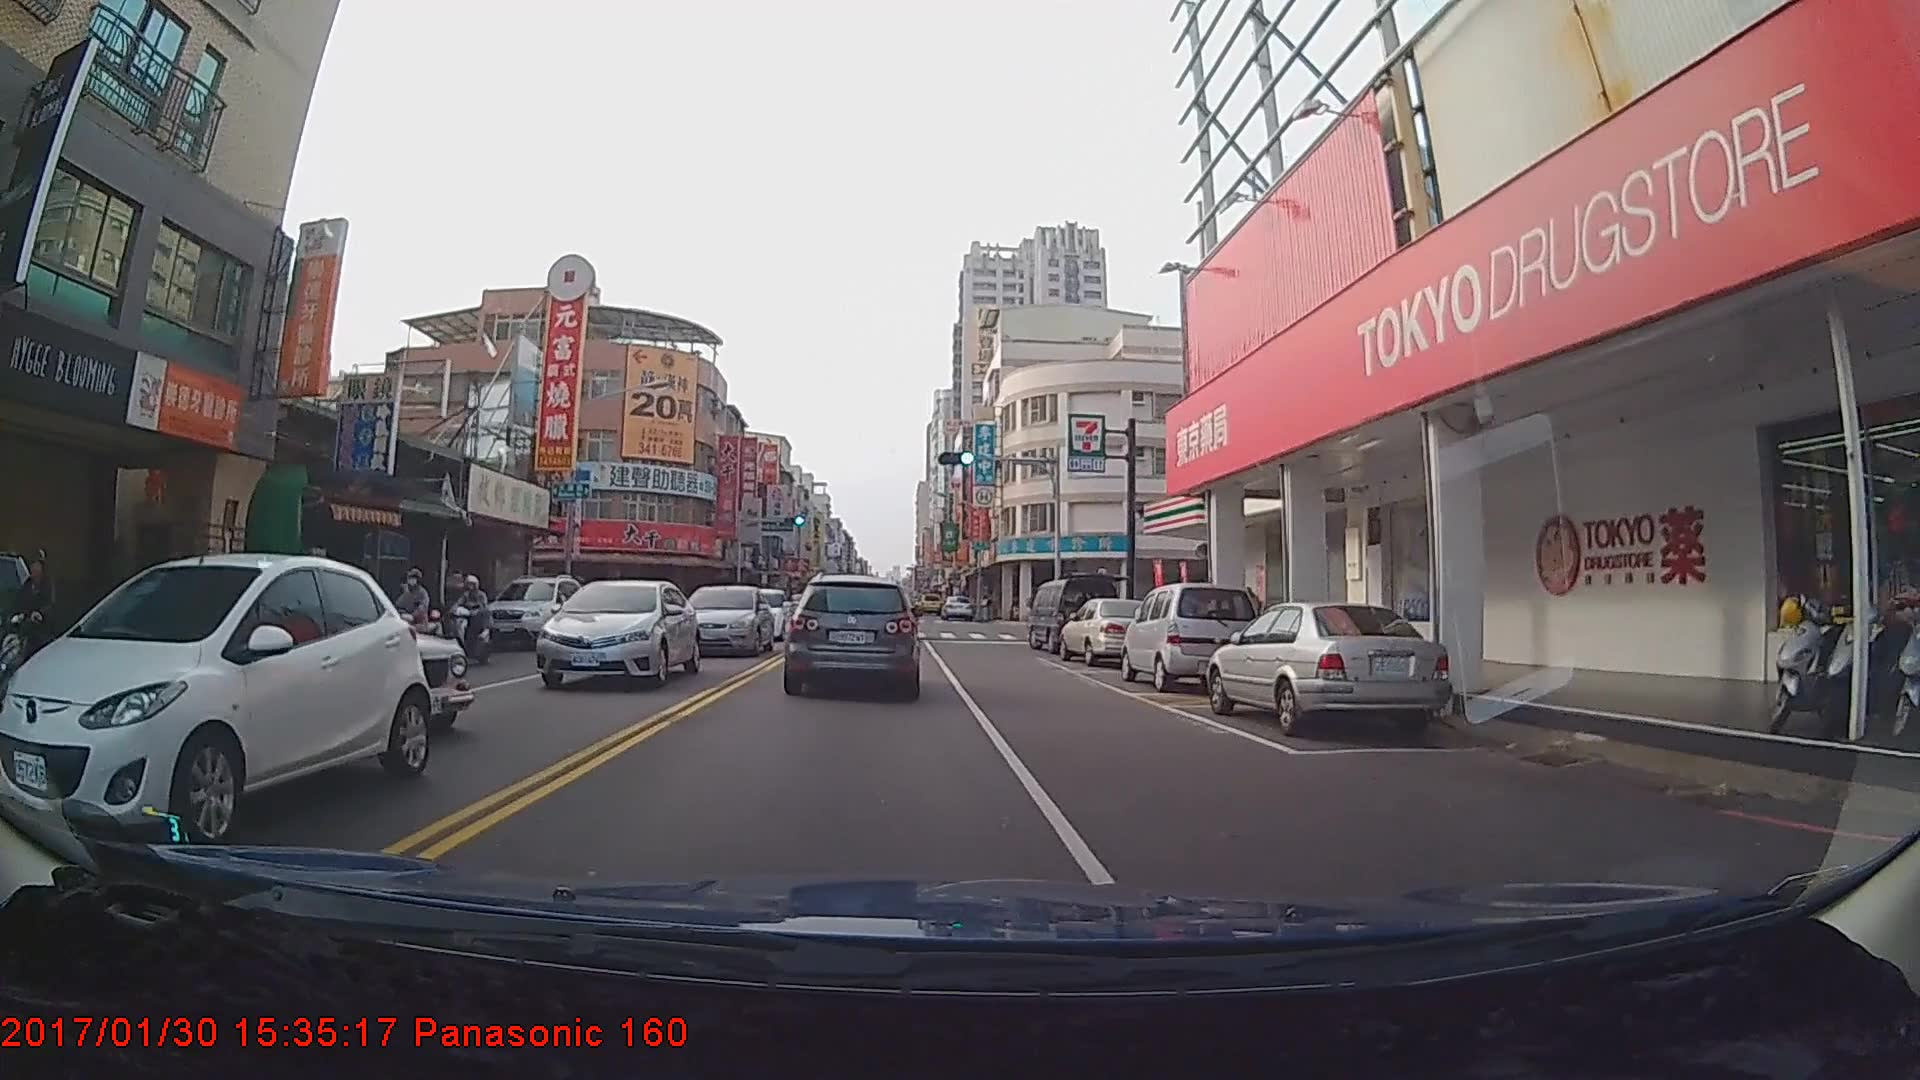rider: (1, 549, 66, 722), (440, 571, 488, 660)
vehicle: (9, 549, 429, 845), (1209, 599, 1449, 741), (527, 581, 690, 695), (788, 574, 918, 696), (1121, 585, 1262, 693), (480, 573, 583, 648), (678, 583, 774, 657), (1028, 577, 1119, 656), (1060, 600, 1160, 667), (939, 594, 974, 619)
